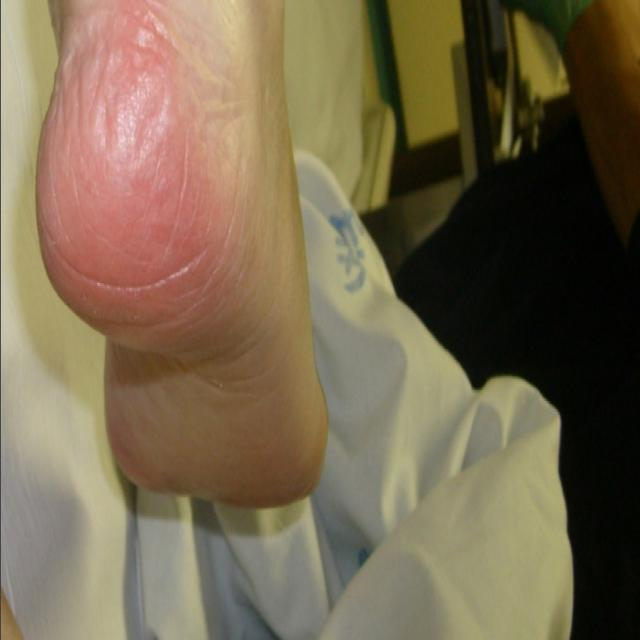stage-1: (35, 11, 226, 351)
